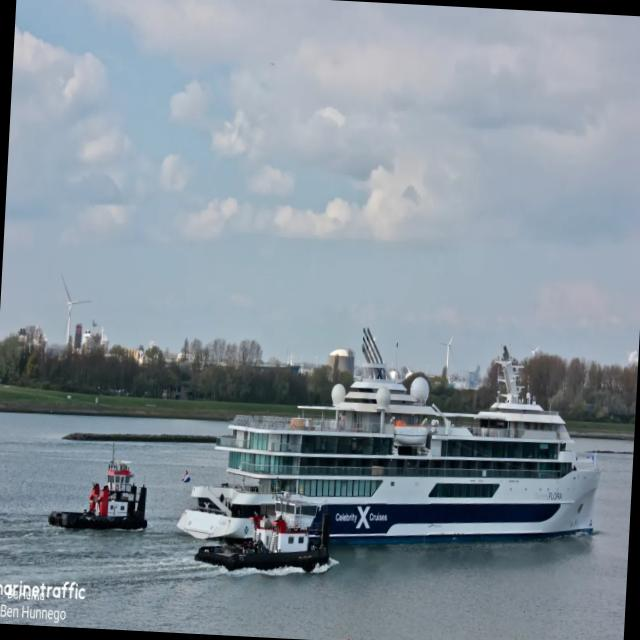Cruise: (177, 328, 600, 544)
Tug: (195, 495, 329, 572), (48, 451, 147, 530)
